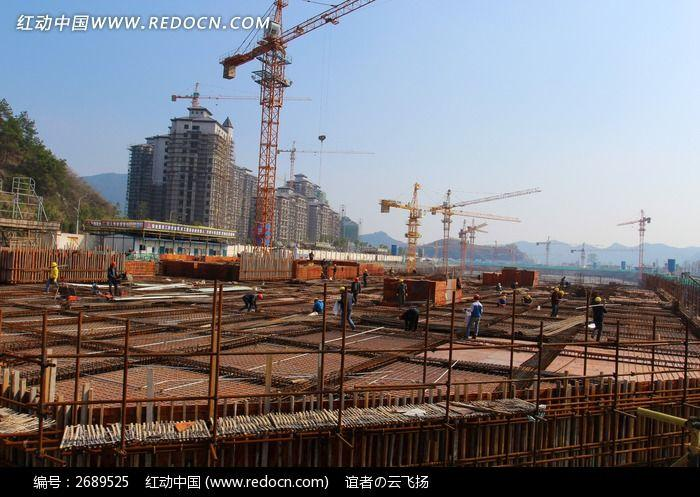helmet: (473, 295, 482, 303), (111, 261, 118, 269), (51, 262, 58, 270), (596, 297, 604, 304), (259, 294, 265, 303), (354, 277, 361, 284), (526, 294, 533, 301), (339, 288, 347, 294), (554, 288, 561, 294), (560, 291, 565, 299), (400, 279, 405, 285)
